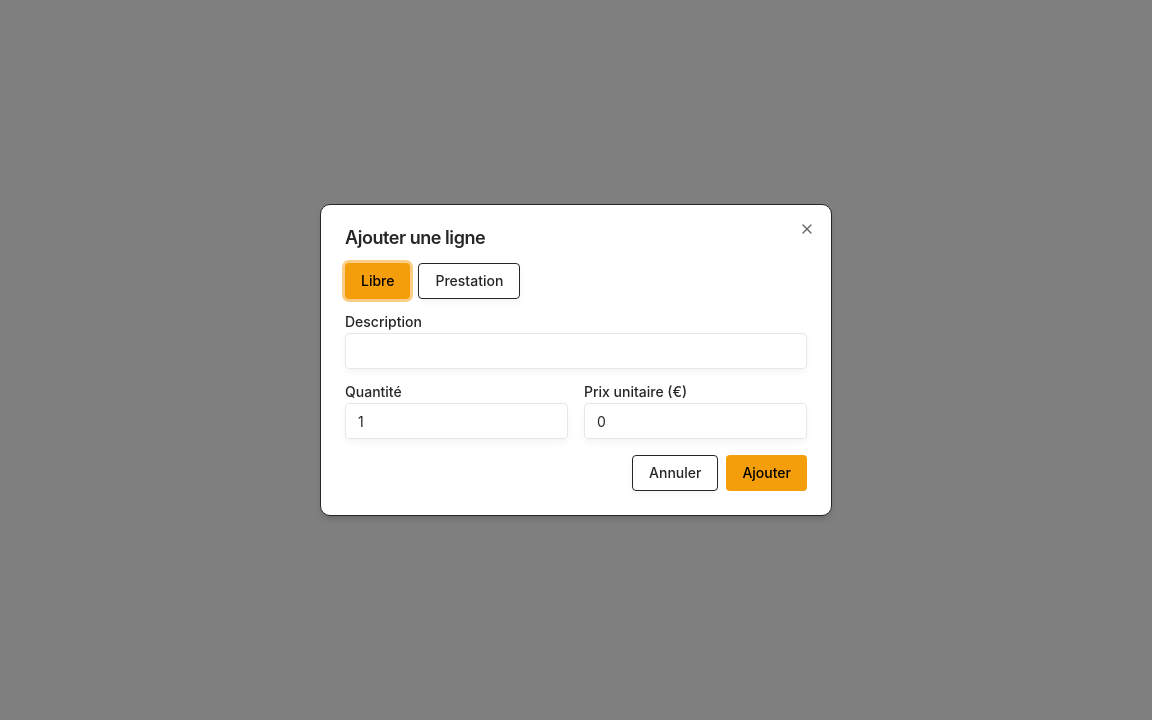
Scenario: EditInvoiceItemDialog › T7 — toggle Prestation affiche le Select
Click the button "Prestation": (469, 281) [418,263,520,299]
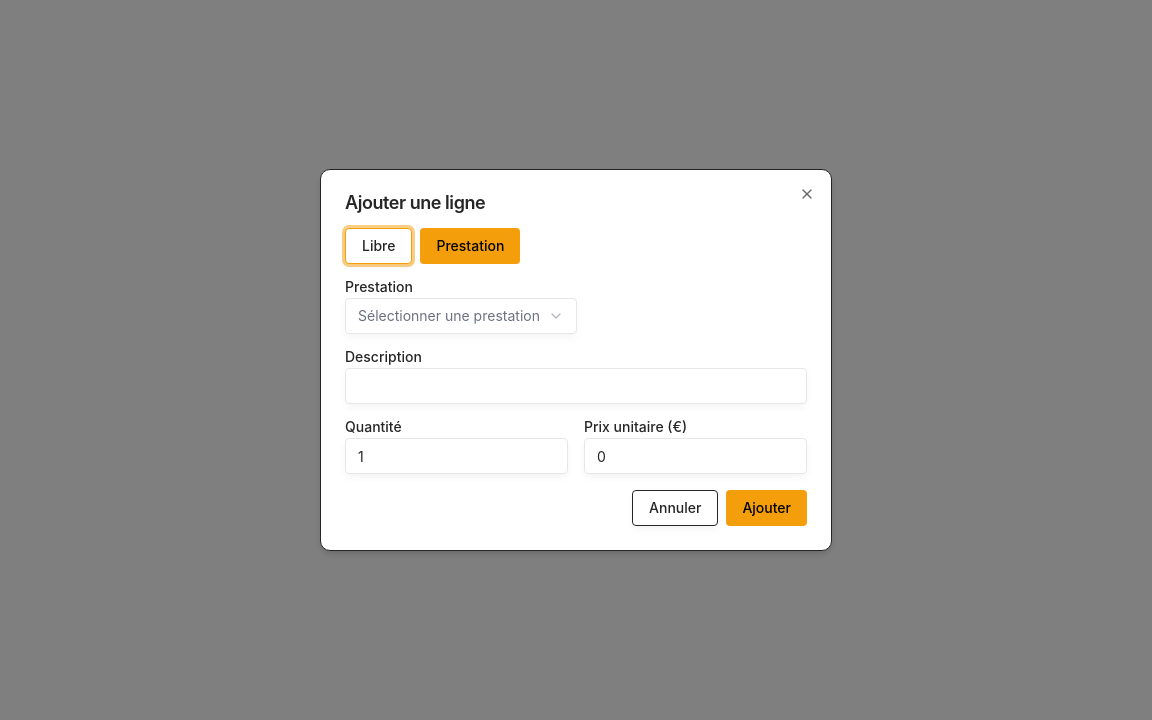
Result: the text "Sélectionner une prestation" is shown at [358,306,540,326]
